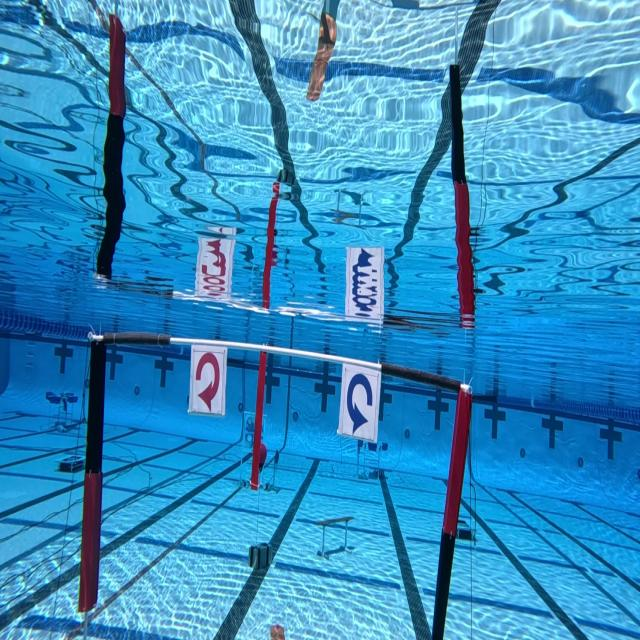blue_side: (338, 361, 382, 444)
red_side: (188, 343, 228, 417)
